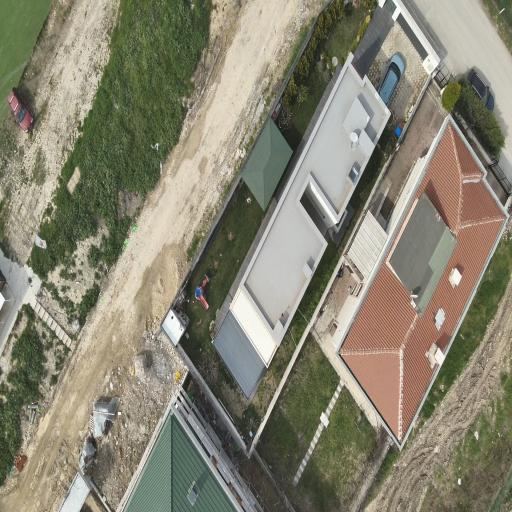car: (378, 54, 404, 105), (467, 69, 494, 111), (8, 88, 33, 132)
